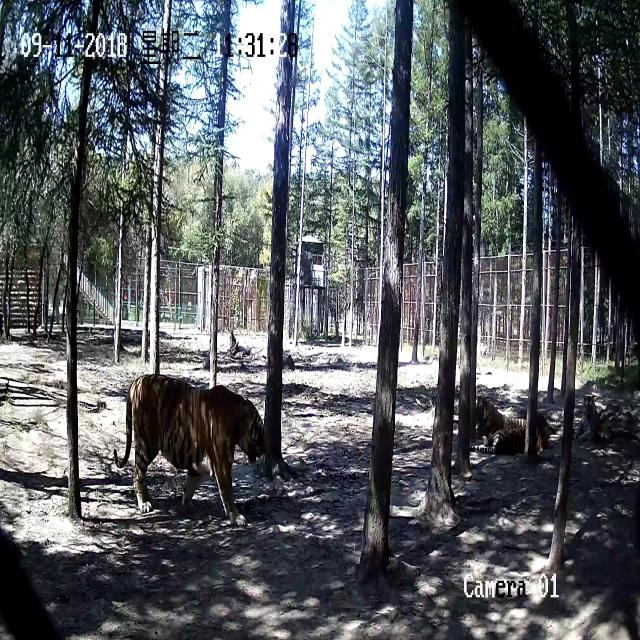Tiger: (110, 366, 274, 536), (470, 387, 553, 458), (569, 384, 615, 447)
